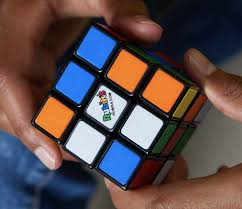cube: (26, 17, 215, 194)
